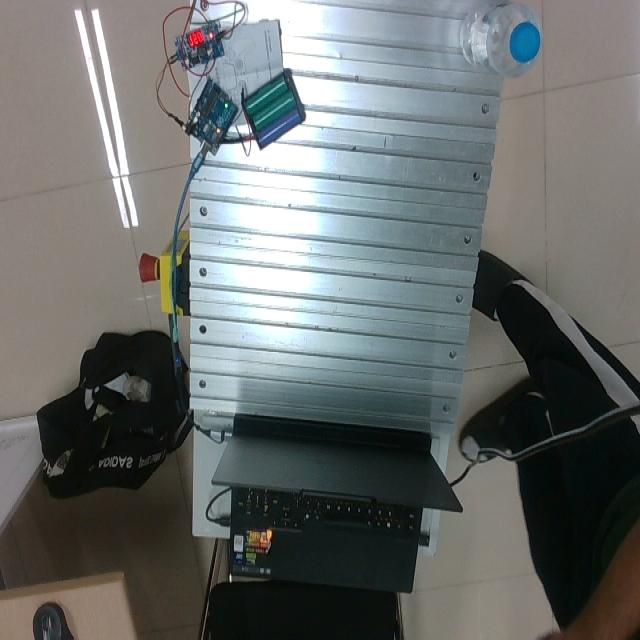lavie: (458, 2, 542, 78)
